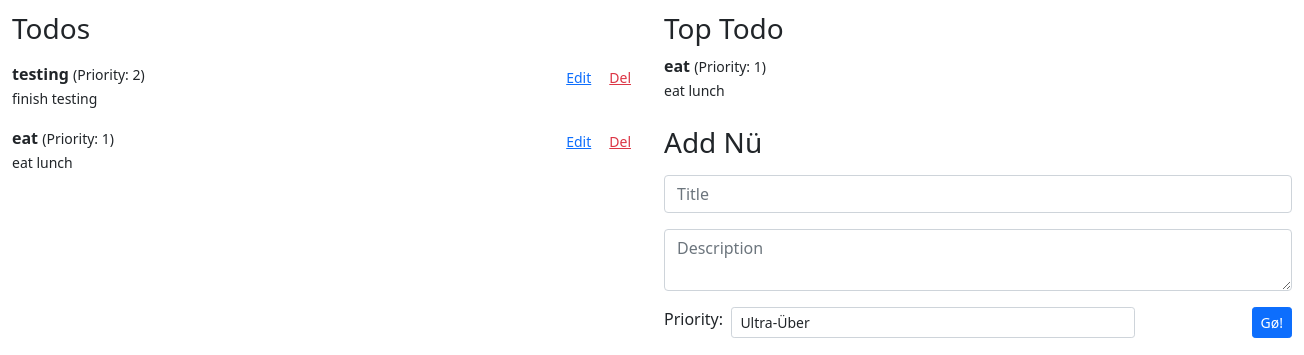
Test case: TodoApp › creates new todo using form
This screenshot has width=1304, height=355.
Type "test2" into the field with placeholder "Title". click: (978, 194)
box: [664,175,1292,213]
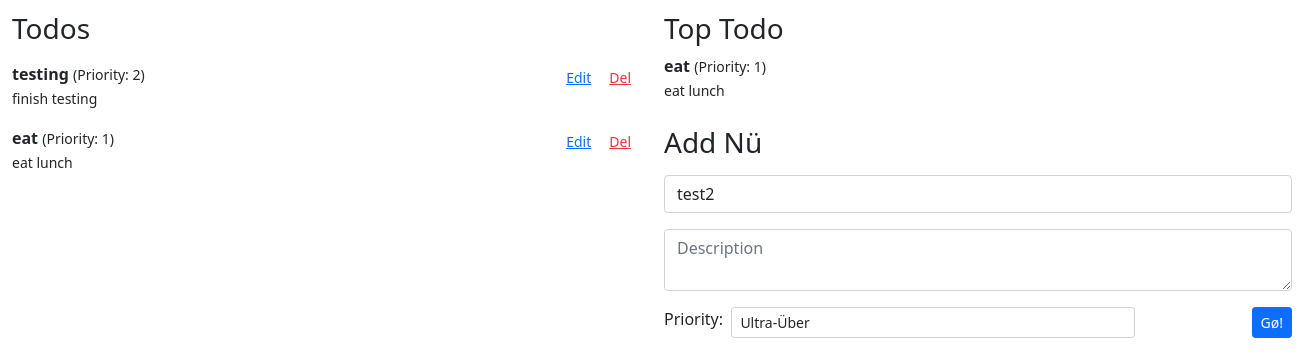
Type "testing2" into the text box with placeholder "Description". click: (978, 260)
box: [664,229,1292,291]
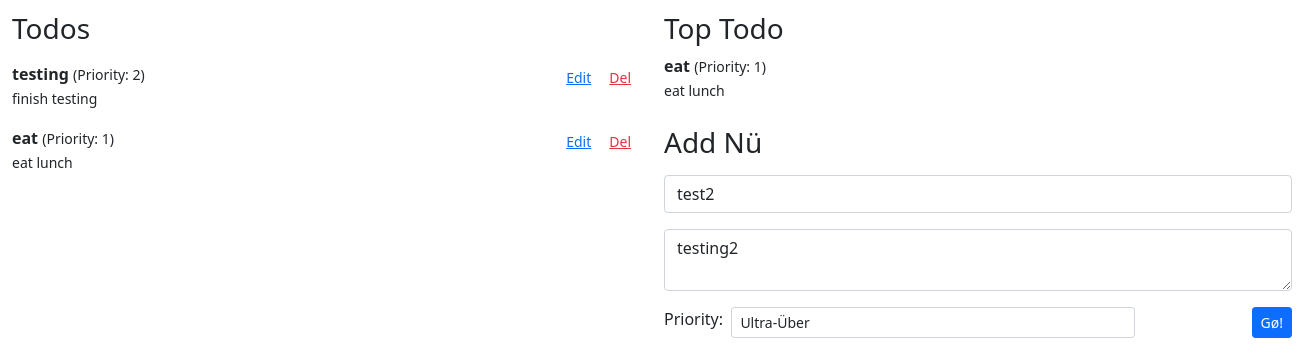
Select "Meh" in the dropdown labelled "Priority:". click: (933, 323)
box: [731,307,1135,338]
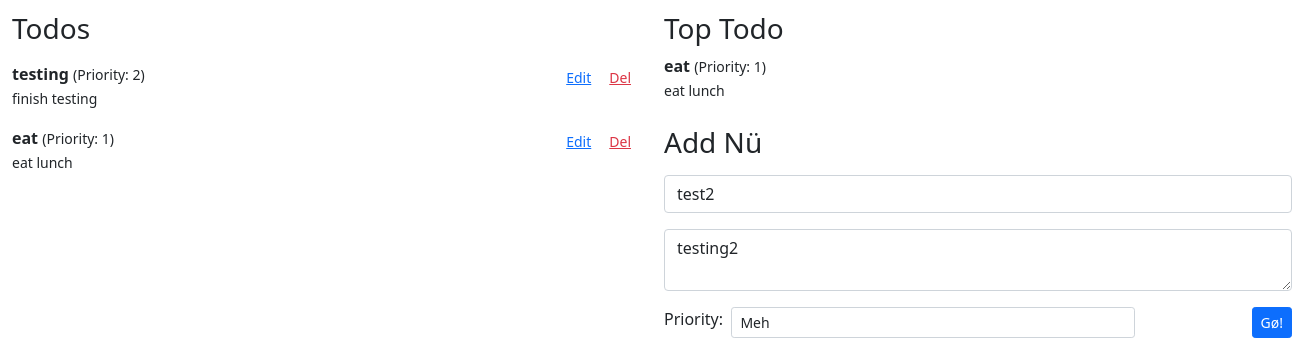
Click the button "Gø!". click: (1272, 323)
box: [1252,307,1292,338]
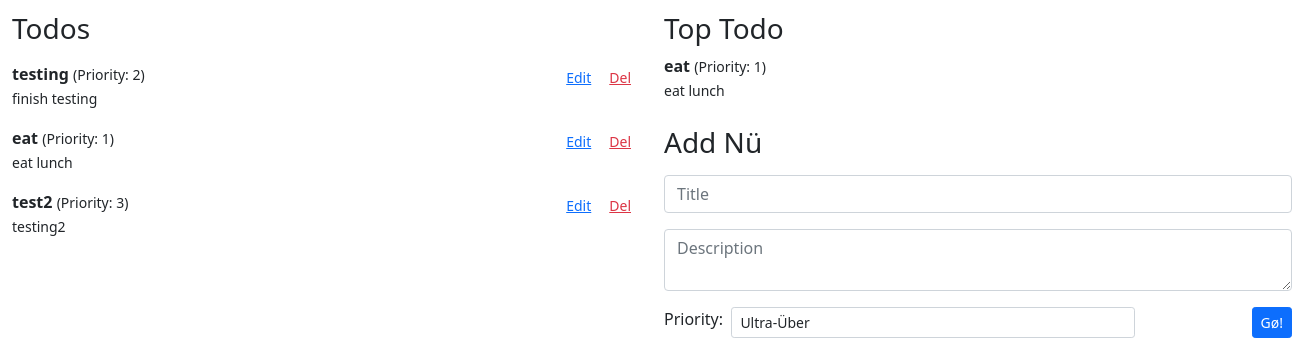
Check: the text "test2" is shown, box [12,191,52,213]
Check: the text "testing2" is shown, box [12,217,66,236]
Check: the text "(Priority: 3)" is shown, box [57,193,128,212]
